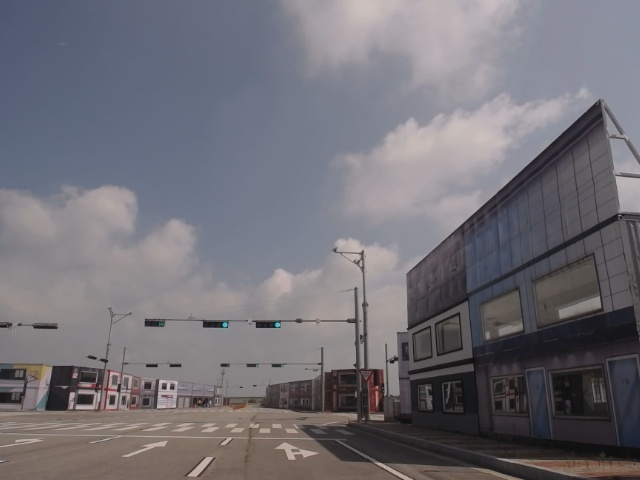straight_green_4: (255, 320, 283, 329), (203, 320, 230, 329)
